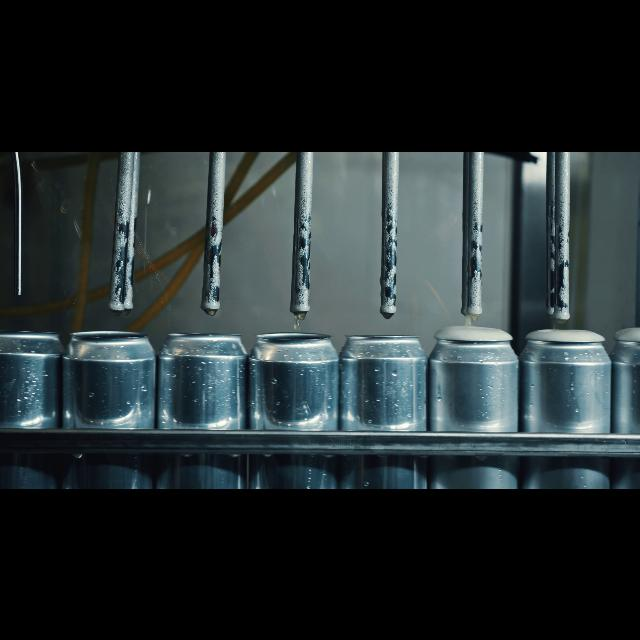empty: (67, 322, 153, 488), (252, 320, 336, 488), (340, 320, 424, 488), (162, 324, 245, 488), (1, 324, 61, 488)
full: (435, 314, 517, 488), (522, 318, 602, 488), (610, 322, 640, 488)
